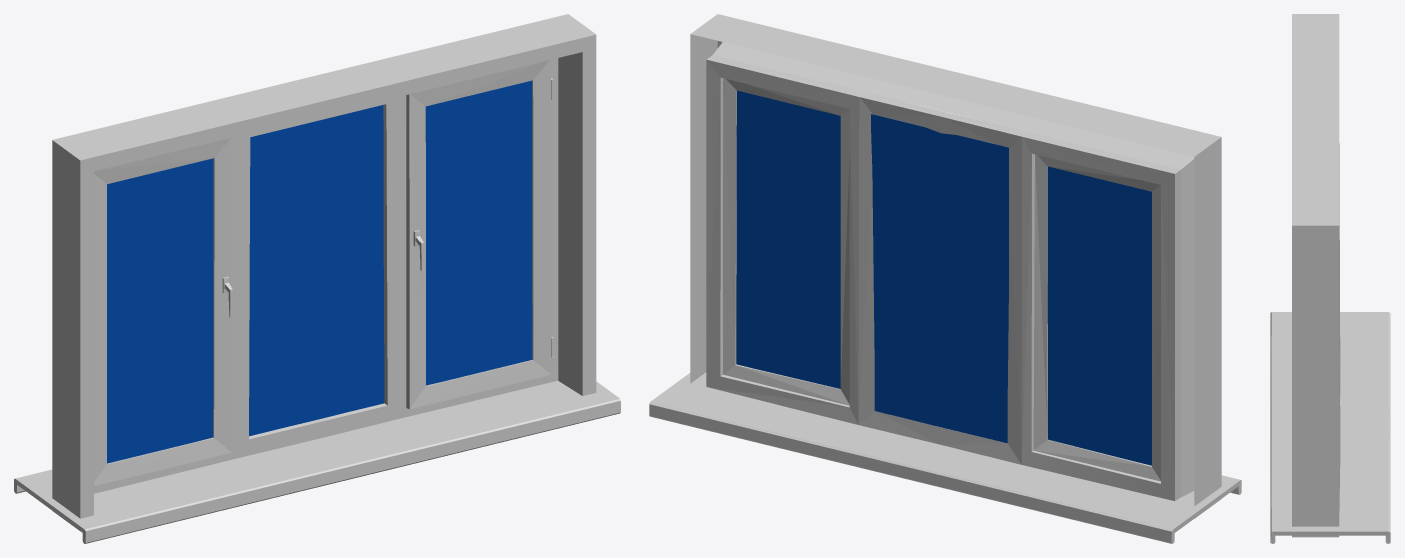
Rendered from window.fbx.
3 views of the same model, side by side, from view 1: azimuth 30°, elevation 25°; view 2: azimuth 150°, elevation 25°; view 3: azimuth 270°, elevation 25° (orthographic). The views are drawn at different scales.
Visible parts, largest first — view 1: window_frame, glass003, glass1, glass002; view 2: window_frame, glass003, glass002, glass1; view 3: window_frame.
Boxes of the visible parts, x1=… form: window_frame: x1=14, y1=14, x2=620, y2=543; glass003: x1=249, y1=105, x2=384, y2=436; glass1: x1=107, y1=158, x2=213, y2=463; glass002: x1=425, y1=80, x2=532, y2=385; window_frame: x1=649, y1=14, x2=1241, y2=543; glass003: x1=871, y1=114, x2=1008, y2=443; glass002: x1=736, y1=90, x2=840, y2=388; glass1: x1=1047, y1=166, x2=1151, y2=465; window_frame: x1=1270, y1=14, x2=1390, y2=543.
Bounding box in the file's own units: 2.17 × 1.44 × 0.5017.
